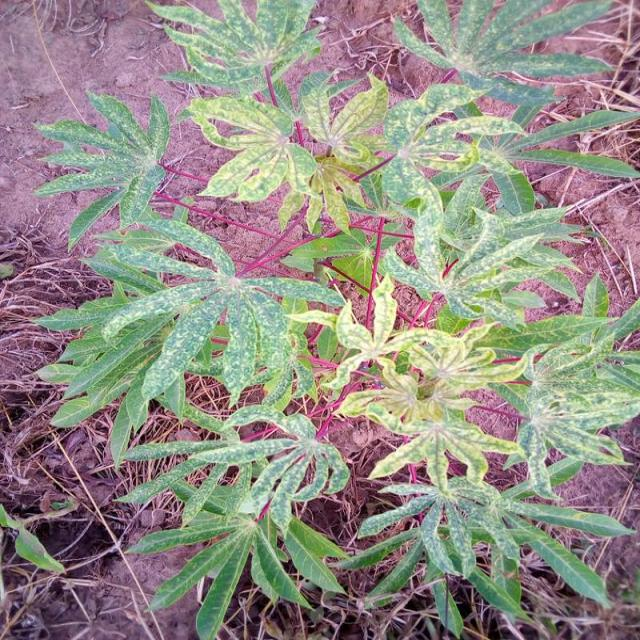cassava leaf: (29, 1, 638, 637)
